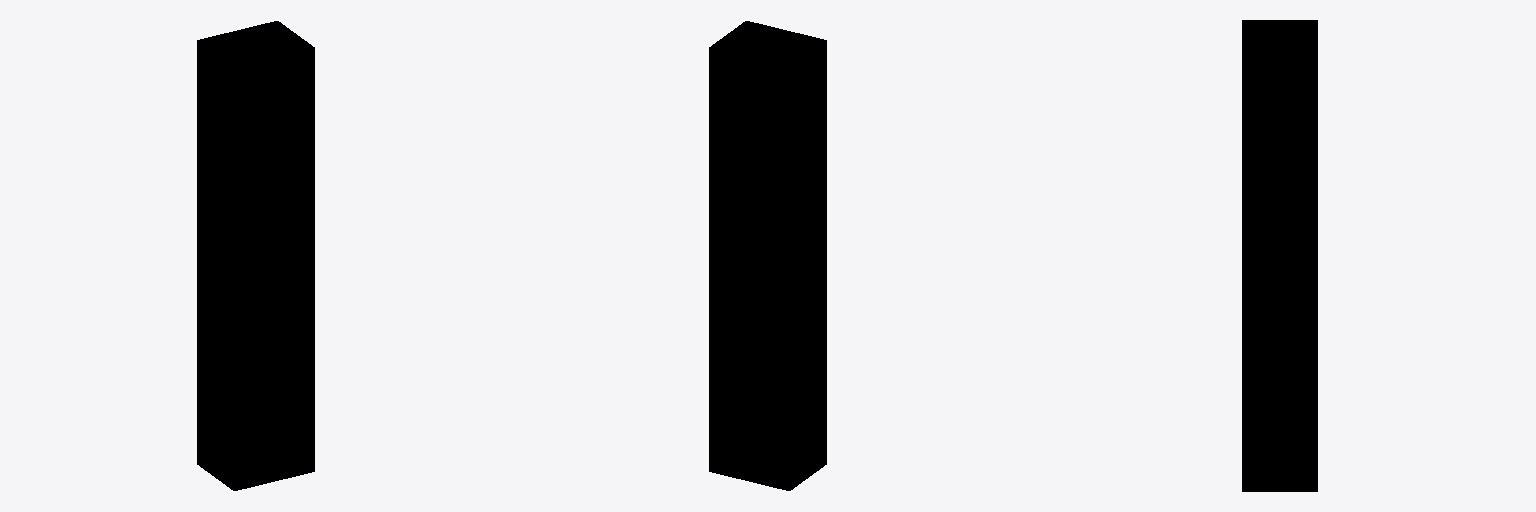
robot.urdf — plate1:
<?xml version="1.0" ?>
<robot name="plate1">
  <link concave="no" name="plateLink1">
  <contact>
      <lateral_friction value="2"/>
  </contact>
    <inertial>
      <origin rpy="0 0 0" xyz="-1.25 0 0"/>
       <mass value=".0"/>
       <inertia ixx="0" ixy="0" ixz="0" iyy="0" iyz="0" izz="0"/>
    </inertial>
    <visual>
      <origin rpy="0 0 0" xyz="-1.25 0 0"/>
      <geometry>
      	<box size="0.1 0.08 0.5"/>
      </geometry>
       <material name="black">
        <color rgba="0 0 0 1"/>
      </material>
    </visual>
    <collision concave="no">
      <origin rpy="0 0 0" xyz="-1.25 0 0"/>
      <geometry>
      	<box size="0.1 0.08 0.5"/>
      </geometry>
    </collision>
  </link>
</robot>

--- Render facts (derived) ---
Views: 3 orthographic renders of the robot side by side, from view 1: azimuth 30°, elevation 25°; view 2: azimuth 150°, elevation 25°; view 3: azimuth 270°, elevation 25°.
Robot: plate1 — 1 links, 0 joints (none); root link plateLink1; default pose: every joint at zero.
Visible links, largest first — view 1: plateLink1; view 2: plateLink1; view 3: plateLink1.
Link boxes in pixels (x1=…): plateLink1: x1=197, y1=21, x2=314, y2=490; plateLink1: x1=709, y1=21, x2=826, y2=490; plateLink1: x1=1242, y1=20, x2=1317, y2=491.
Size in the robot's own frame: 0.1 by 0.08 by 0.5 metres.
Geometry: primitives only (box / cylinder / sphere), no mesh files.
